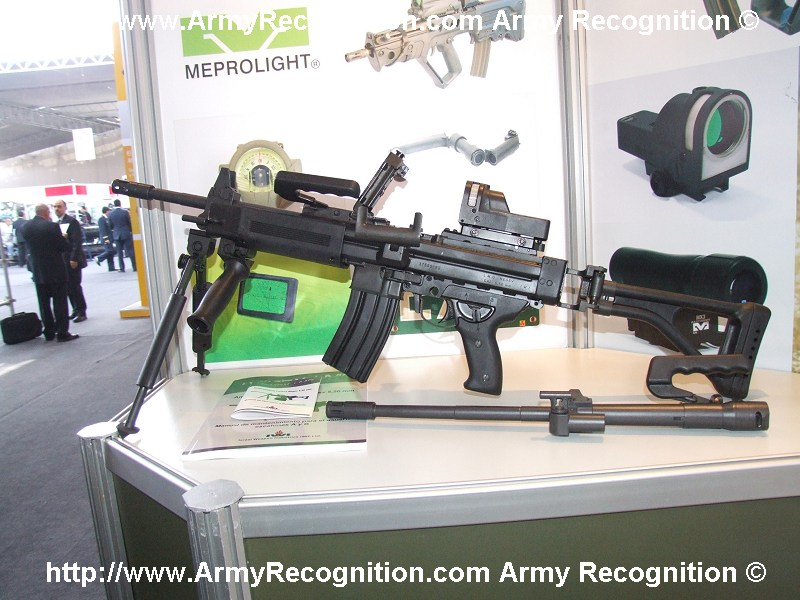rifle: (114, 158, 779, 404)
